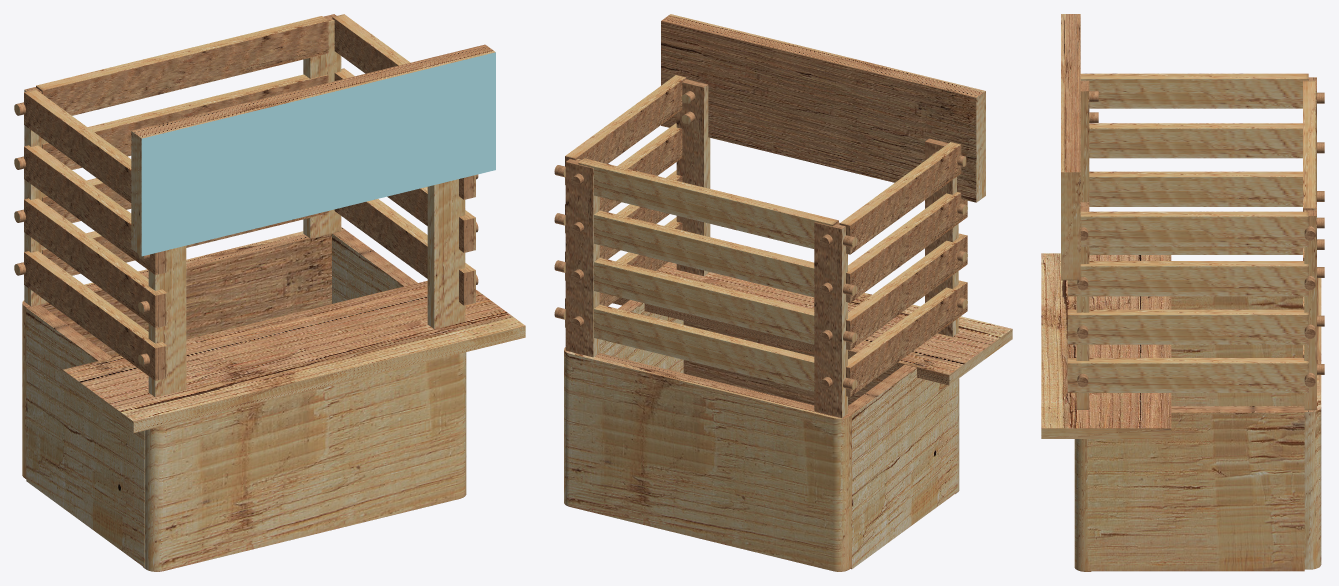
The model's file is Store.fbx.
3 views of the same model, side by side, from view 1: azimuth 30°, elevation 25°; view 2: azimuth 150°, elevation 25°; view 3: azimuth 270°, elevation 25° (orthographic). The views are drawn at different scales.
Parts seen in each view (by area): view 1: pCube16; view 2: pCube16; view 3: pCube16.
Part boxes in pixels (left/top/right/bottom): pCube16: left=14, top=14, right=525, bottom=571; pCube16: left=554, top=14, right=1012, bottom=571; pCube16: left=1041, top=14, right=1324, bottom=571.
Bounding box in the file's own units: 4.92 × 5.33 × 3.36.
3 materials, 3 textured.
